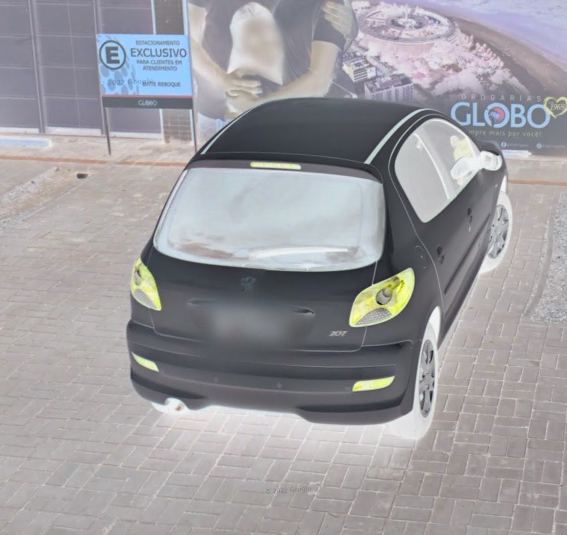car: (121, 93, 517, 447)
